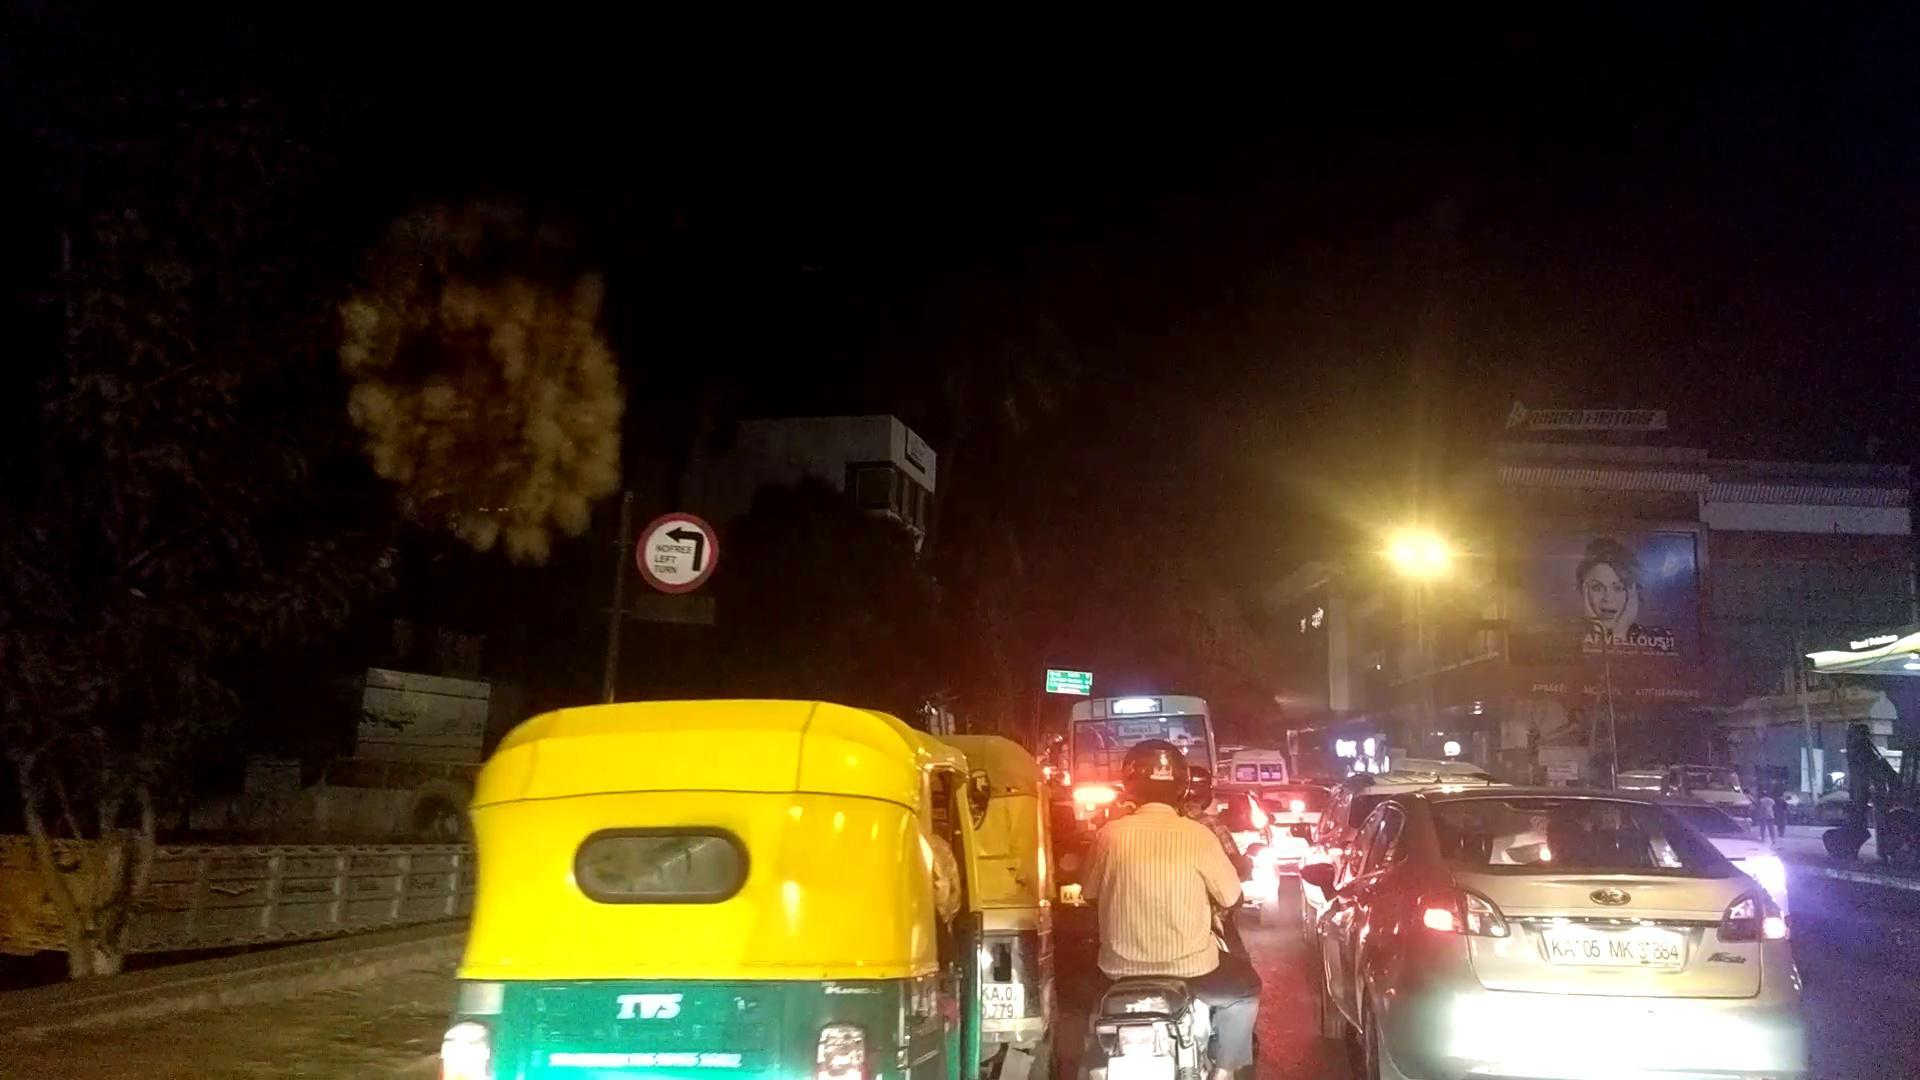on: (1160, 372, 1631, 851)
